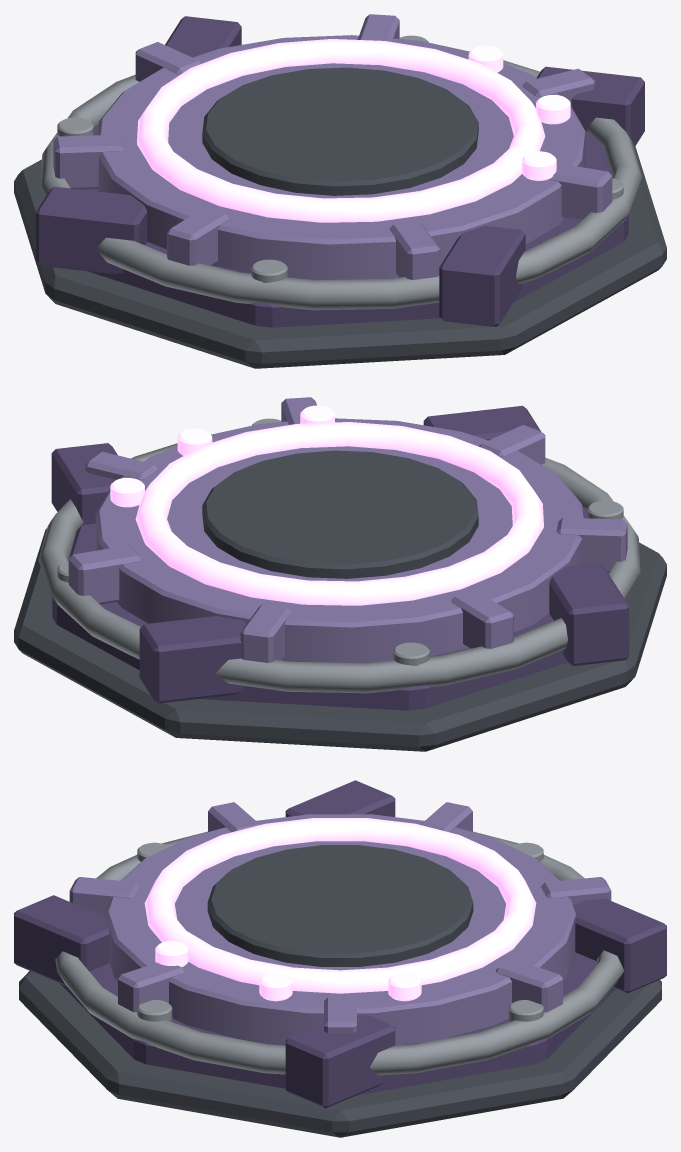
Rendered from arc_base_l3.glb.
3 views of the same model, one above another, from view 1: azimuth 30°, elevation 25°; view 2: azimuth 150°, elevation 25°; view 3: azimuth 270°, elevation 25° (orthographic). The views are drawn at different scales.
Parts seen in each view (by area): view 1: Cylinder.002, Cylinder, Cylinder.003, Torus.001, Torus, Cylinder.001, Cube.009, Cube.010, Cube.007, Cube.003, Cube.006, Cube.004 (+10 smaller); view 2: Cylinder.002, Cylinder, Cylinder.003, Torus.001, Torus, Cylinder.001, Cube.008, Cube.009, Cube.007, Cube.001, Cube.003, Cube.004 (+10 smaller); view 3: Cylinder.002, Cylinder, Cylinder.003, Torus.001, Torus, Cylinder.001, Cube.007, Cube.010, Cube.008, Cube.009, Cube.001, Cube.006 (+10 smaller).
Boxes of the visible parts, <box> form: Cylinder.002: <box>97,35,585,279</box>; Cylinder: <box>14,146,666,368</box>; Cylinder.003: <box>202,67,478,195</box>; Torus.001: <box>137,39,545,222</box>; Torus: <box>40,60,642,310</box>; Cylinder.001: <box>83,125,628,327</box>; Cube.009: <box>36,186,147,274</box>; Cube.010: <box>439,225,525,326</box>; Cube.007: <box>536,66,644,147</box>; Cube.003: <box>53,134,124,189</box>; Cube.006: <box>548,163,612,221</box>; Cube.004: <box>167,207,229,265</box>; Cylinder.002: <box>95,418,583,662</box>; Cylinder: <box>14,528,666,751</box>; Cylinder.003: <box>202,450,478,578</box>; Torus.001: <box>135,422,543,605</box>; Torus: <box>38,443,640,693</box>; Cylinder.001: <box>52,508,608,710</box>; Cube.008: <box>139,616,246,703</box>; Cube.009: <box>549,563,629,665</box>; Cube.007: <box>51,443,117,525</box>; Cube.001: <box>68,545,142,604</box>; Cube.003: <box>451,590,513,648</box>; Cube.004: <box>556,517,627,572</box>; Cylinder.002: <box>105,814,575,1045</box>; Cylinder: <box>19,971,661,1137</box>; Cylinder.003: <box>207,845,473,966</box>; Torus.001: <box>144,818,536,993</box>; Torus: <box>55,831,623,1075</box>; Cylinder.001: <box>60,952,615,1095</box>; Cube.007: <box>285,1015,395,1108</box>; Cube.010: <box>14,895,109,986</box>; Cube.008: <box>573,898,666,993</box>; Cube.009: <box>285,780,395,816</box>; Cube.001: <box>495,959,562,1012</box>; Cube.006: <box>118,962,185,1012</box>.
Size of the model in its own units: 2.16 by 0.4 by 2.16.
